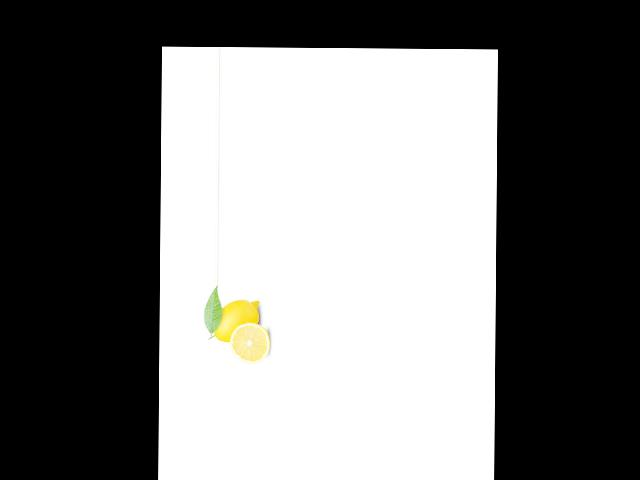lemon: (206, 293, 263, 346)
